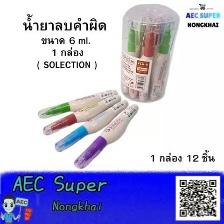correction_fluid: (71, 101, 139, 170), (52, 97, 131, 153), (41, 93, 122, 137), (36, 88, 119, 121), (148, 19, 175, 101), (135, 21, 158, 102), (122, 18, 139, 99)
